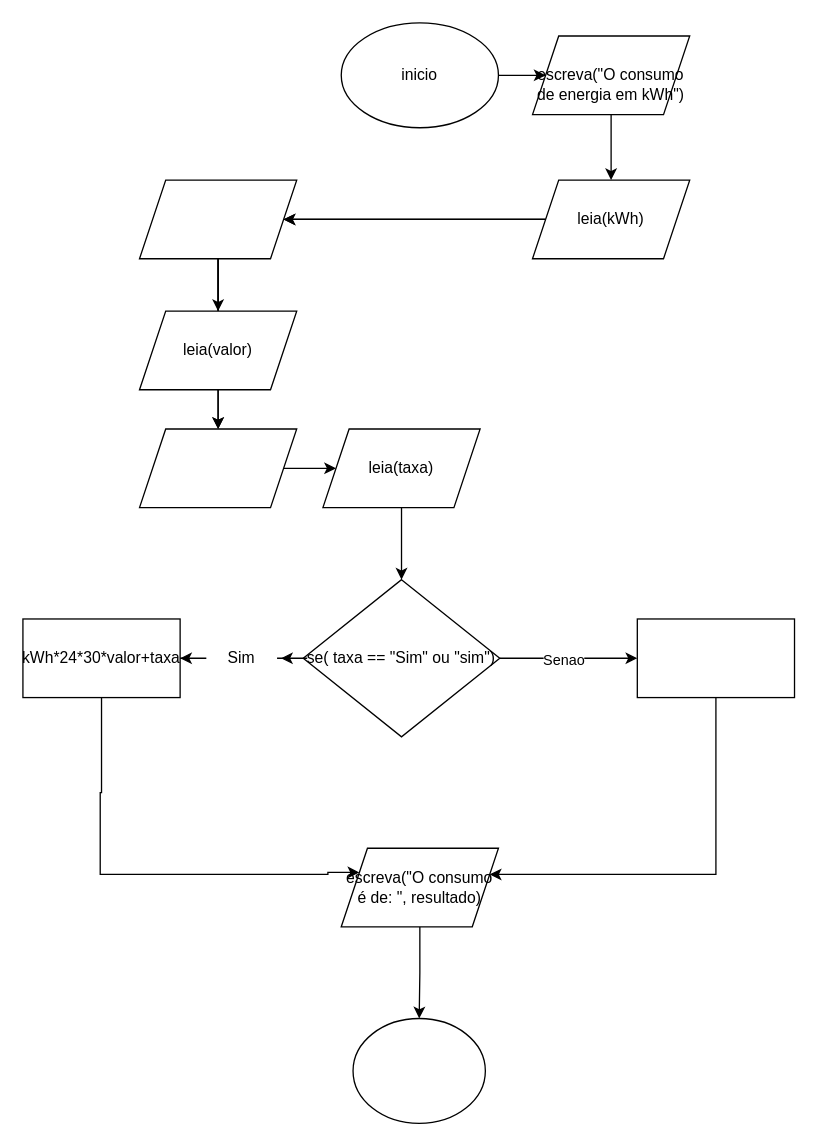
Image size: 817x1146. Some labels were removed from this diagram. The centre of each missing label's shape, as x and y in pixels:
escreva("O valor cobrado por kWh"): the point at 217,219
escreva(Possui taxa de Iluminação pública?"): the point at 217,468
fim: the point at 418,1070
senao{ kWh*24*30*valor = resultado {: the point at 715,658
